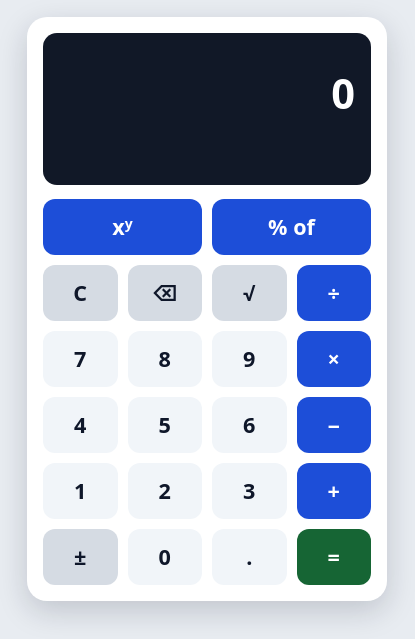
Scenario: App › shows a generic message for an unexpected failure
What coordinates should you click on to do the following:
click the button "1"
I would click on:
 (80, 491)
Its box is [43,463,118,519].
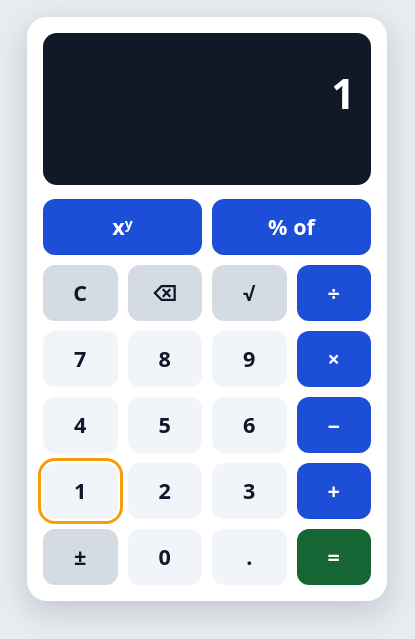
What coordinates should you click on to do the following:
click the button named "add"
I would click on:
 (334, 491)
Its box is [296,463,371,519].
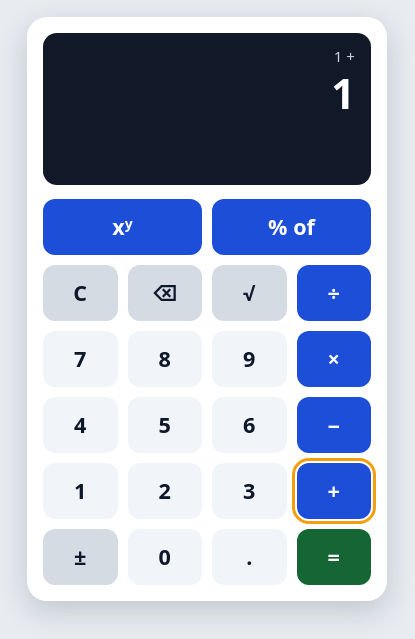
What coordinates should you click on to do the following:
click the button "1"
I would click on:
 (80, 491)
Its box is [43,463,118,519].
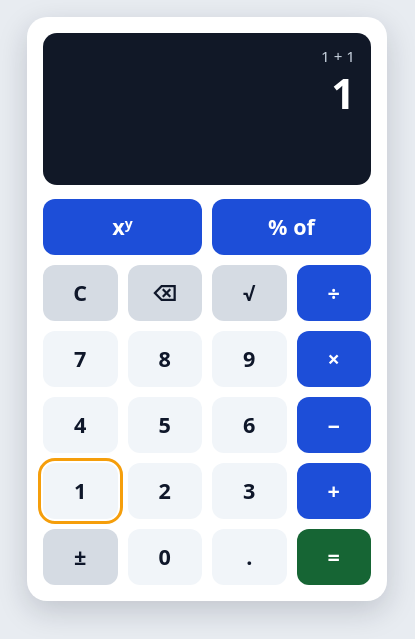
What coordinates should you click on to do the following:
click the button named "equals"
I would click on:
 (334, 557)
Its box is [296,529,371,585].
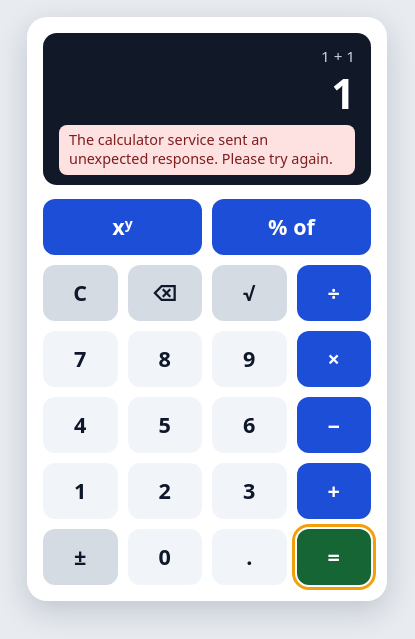
Result: the message shows "unexpected response" at [69,130,333,168]
